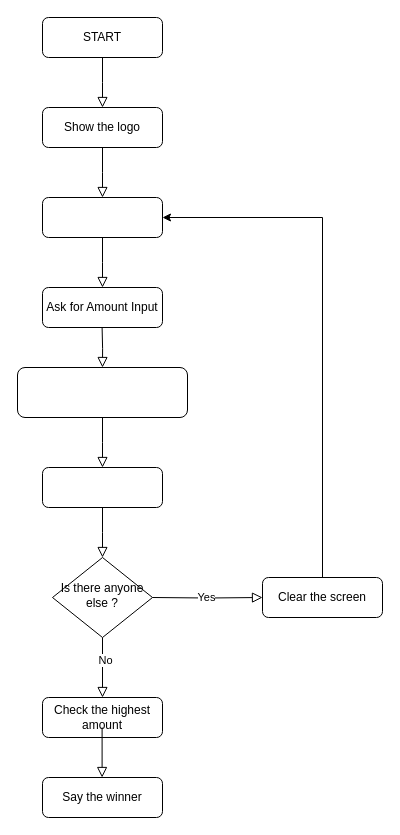
This 400x835 diagram has some shape labels left out. The box of each missing label's shape, as (x1, y1, x2, y2) in pixels:
Add Name and Amount into dictionary as the key and value: (16, 366, 188, 418)
Ask for Name Input: (42, 196, 162, 238)
Ask for Someone_else Input: (42, 466, 162, 508)
